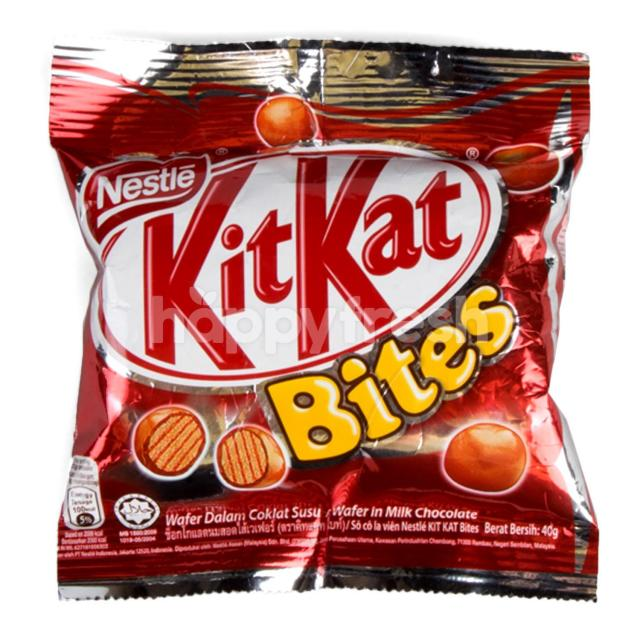kitkat: (44, 43, 602, 604)
